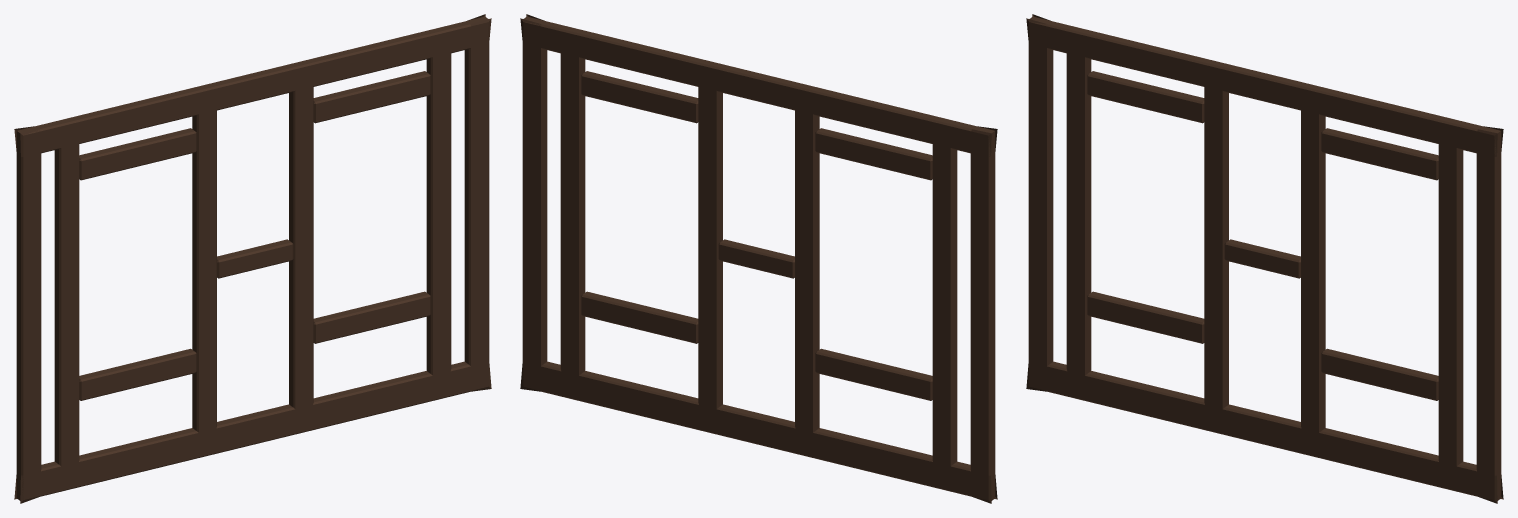
The model's file is timber_archwin_w16.fbx.
3 renders of one model, left to right at view 1: azimuth 30°, elevation 25°; view 2: azimuth 150°, elevation 25°; view 3: azimuth 330°, elevation 25°, orthographic.
Parts seen in each view (by area): view 1: timber_archwin_w16; view 2: timber_archwin_w16; view 3: timber_archwin_w16.
Part boxes in pixels (x1,y1,x2,y2): timber_archwin_w16: (14, 14, 491, 503); timber_archwin_w16: (520, 14, 997, 503); timber_archwin_w16: (1026, 14, 1503, 503).
Bounding box in the file's own units: 1610 × 1210 × 35.
